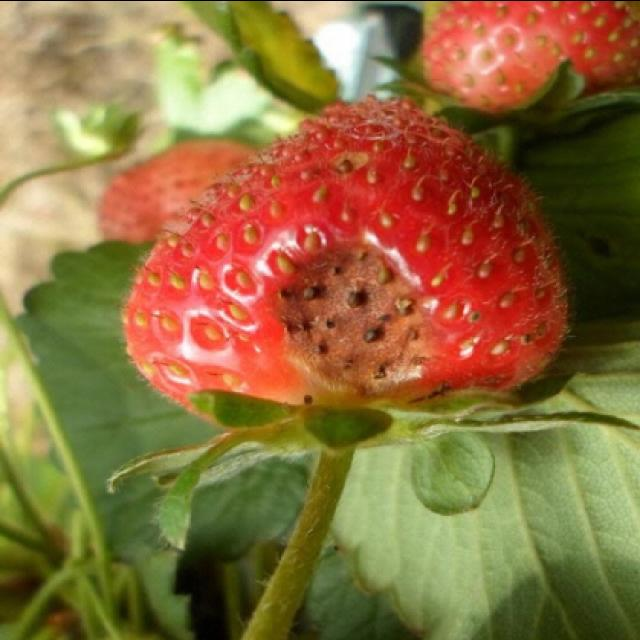Anthracnose Fruit Rot: (300, 258, 412, 390)
